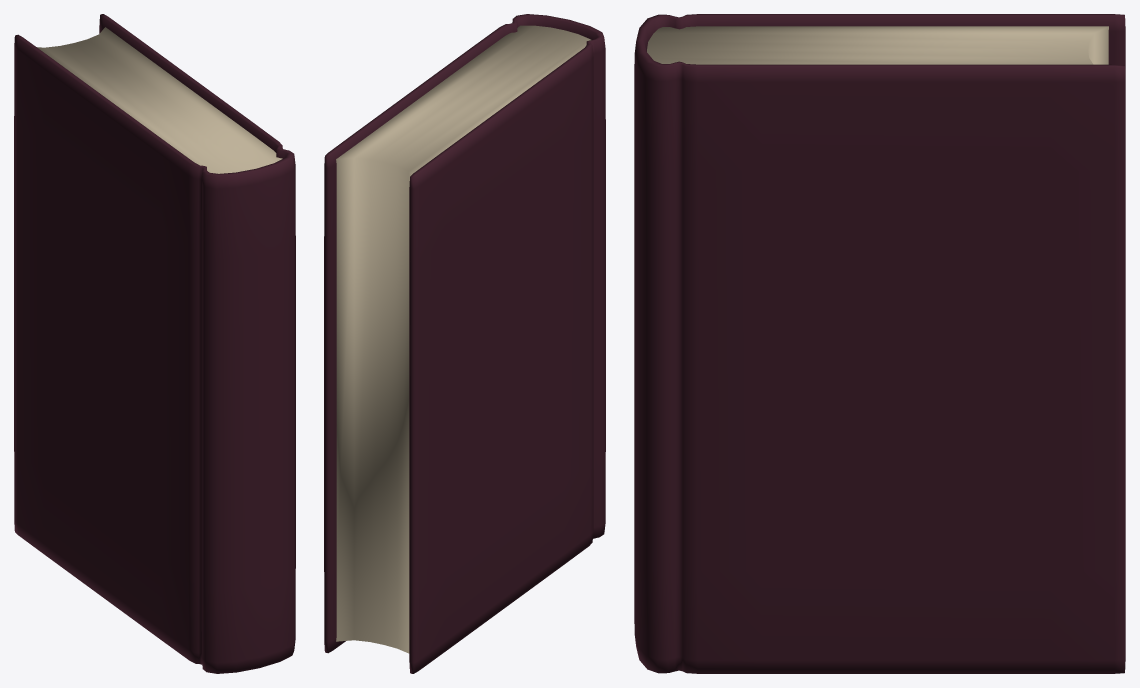
The model's file is book-stendec.glb.
3 views of the same model, side by side, from view 1: azimuth 30°, elevation 25°; view 2: azimuth 150°, elevation 25°; view 3: azimuth 270°, elevation 25° (orthographic). The views are drawn at different scales.
Parts seen in each view (by area): view 1: cover, pages; view 2: cover, pages; view 3: cover, pages.
Part boxes in pixels (bbox=[...]): cover: bbox=[14, 14, 295, 673]; pages: bbox=[37, 27, 282, 173]; cover: bbox=[324, 14, 605, 673]; pages: bbox=[336, 25, 590, 653]; cover: bbox=[634, 14, 1125, 673]; pages: bbox=[647, 26, 1108, 64].
Size of the model in its own units: 0.0582 by 0.3 by 0.2198.
